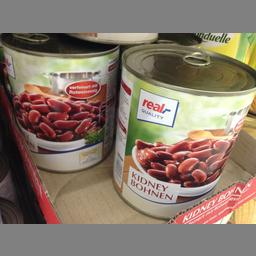beans: (114, 43, 252, 216), (4, 34, 114, 172)
